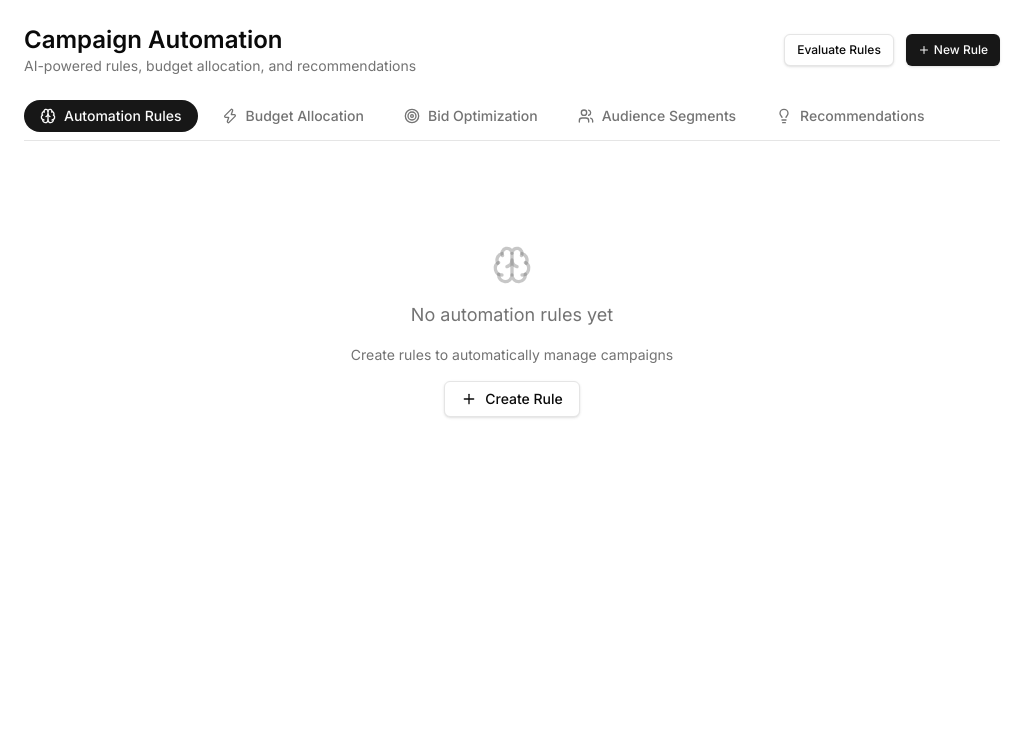
Test: AutomationPage › opens new rule form
The width and height of the screenshot is (1024, 756).
Expected: the text "No automation rules yet" is shown, [411,301,613,329]
What coordinates should you click on to do the following:
click the button "New Rule"
I would click on:
 (953, 50)
Its box is [906,34,1000,66].
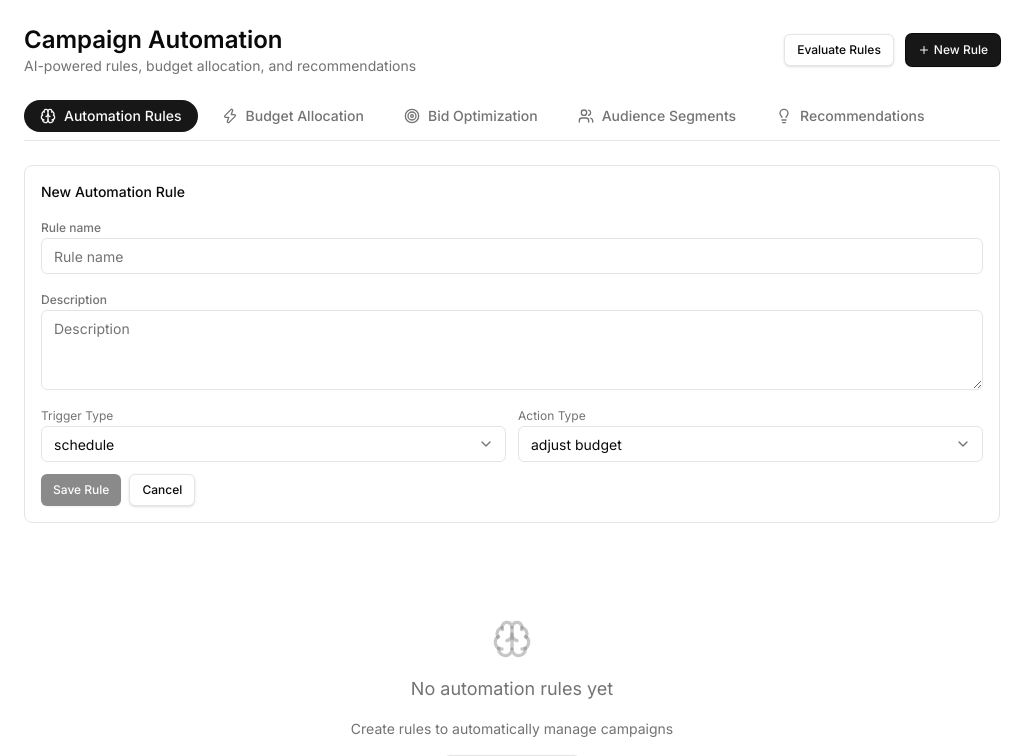
Expected: the text "Rule name" is shown, [41,220,101,235]
